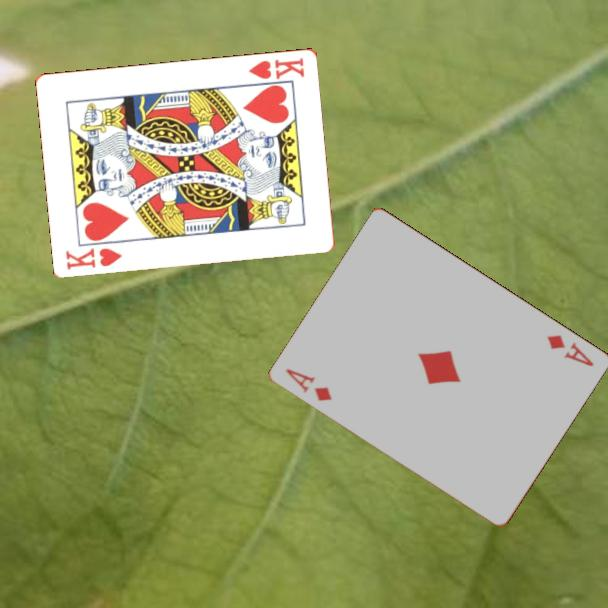d01: (282, 365, 335, 404), (544, 331, 597, 369)
h13: (245, 54, 308, 82), (62, 244, 125, 272)
